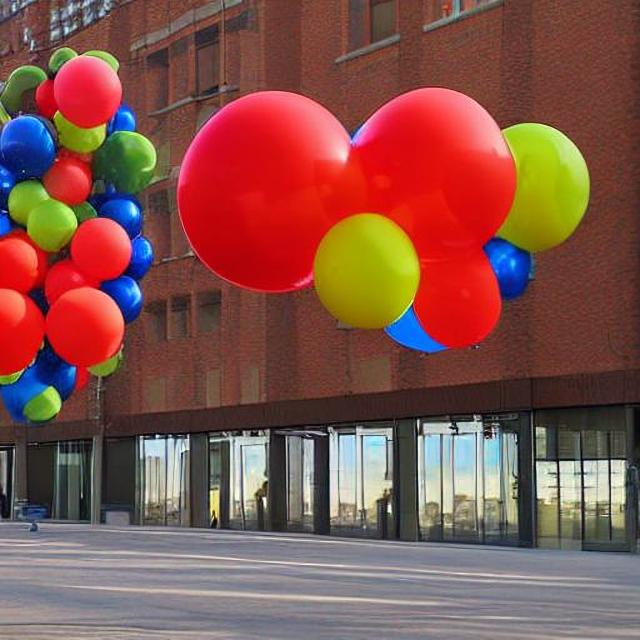balloon: (173, 80, 600, 367), (0, 49, 160, 421)
